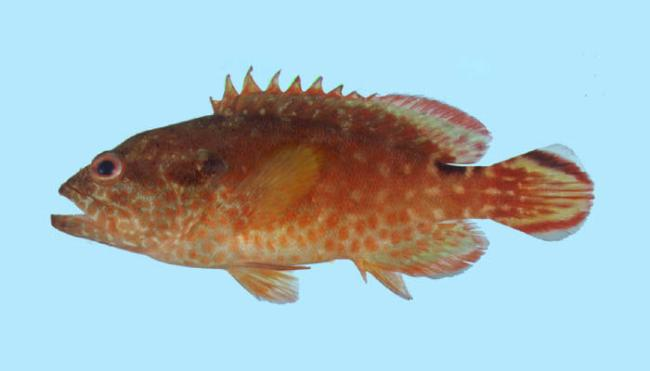fish: (51, 67, 596, 305)
